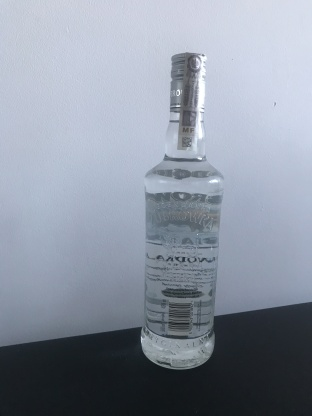nakretka: (168, 50, 208, 116), (195, 97, 208, 117)
